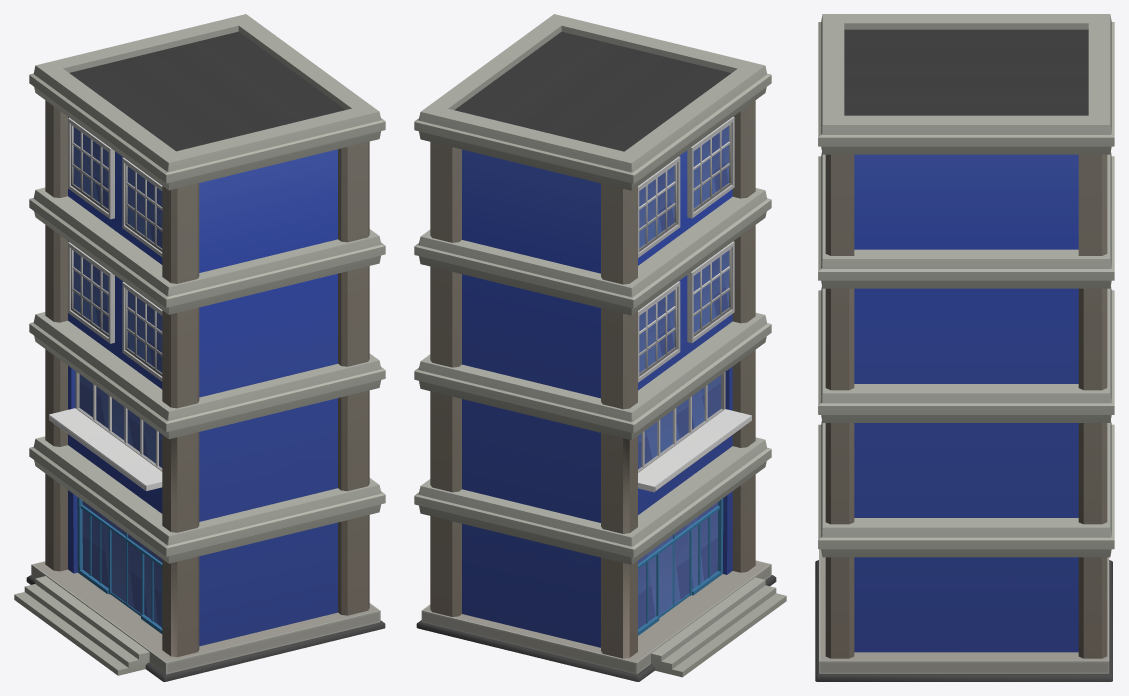
The model's file is Building_9_1_AA.glb.
3 views of the same model, side by side, from view 1: azimuth 30°, elevation 25°; view 2: azimuth 150°, elevation 25°; view 3: azimuth 270°, elevation 25° (orthographic). The views are drawn at different scales.
Parts seen in each view (by area): view 1: Building_9_1_AA; view 2: Building_9_1_AA; view 3: Building_9_1_AA.
Part boxes in pixels (left/top/right/bottom): Building_9_1_AA: left=14, top=14, right=385, bottom=681; Building_9_1_AA: left=414, top=14, right=786, bottom=681; Building_9_1_AA: left=815, top=14, right=1114, bottom=681.
Size of the model in its own units: 9.47 by 18.55 by 9.06.
2 materials, 2 textured.
